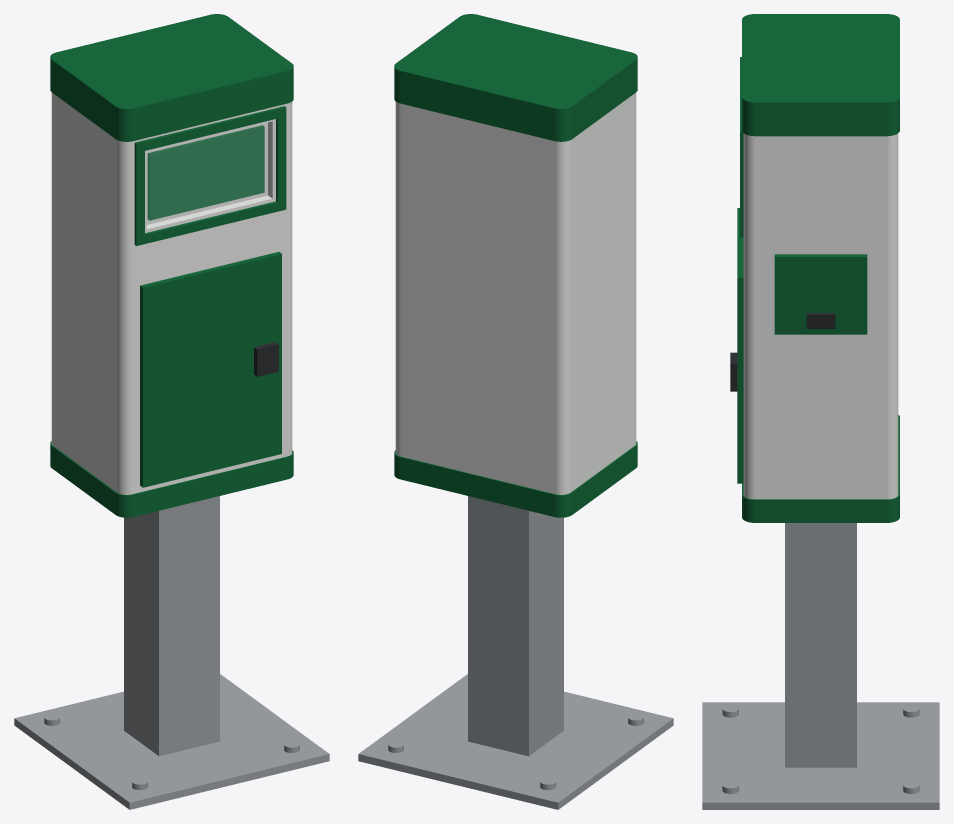
The model's file is ev-charging-station.glb.
3 renders of one model, left to right at view 1: azimuth 30°, elevation 25°; view 2: azimuth 150°, elevation 25°; view 3: azimuth 270°, elevation 25°, orthographic. The views are drawn at different scales.
Parts seen in each view (by area): view 1: ev_head_shell_obj, Geom.001, ev_post_tube_obj, ev_head_cap_obj, ev_base_plate_obj, Geom.006, ev_head_band_obj, ev_screen_surround_obj, Geom; view 2: ev_head_shell_obj, ev_post_tube_obj, ev_head_cap_obj, ev_base_plate_obj, ev_head_band_obj; view 3: ev_head_shell_obj, ev_base_plate_obj, ev_head_cap_obj, ev_post_tube_obj, Geom.003, ev_head_band_obj, Geom.001, ev_anchor_bolts_obj, ev_screen_surround_obj, Geom.002.
Boxes of the visible parts, x1,y1,x2,y2 form: ev_head_shell_obj: (51,92,292,494); Geom.001: (140,252,281,487); ev_post_tube_obj: (124,496,219,756); ev_head_cap_obj: (50,14,293,141); ev_base_plate_obj: (14,674,329,809); Geom.006: (147,125,264,220); ev_head_band_obj: (50,441,293,517); ev_screen_surround_obj: (134,106,286,245); Geom: (254,342,278,376); ev_head_shell_obj: (395,92,636,494); ev_post_tube_obj: (468,496,563,756); ev_head_cap_obj: (394,14,637,141); ev_base_plate_obj: (358,674,673,809); ev_head_band_obj: (394,441,637,517); ev_head_shell_obj: (743,133,898,499); ev_base_plate_obj: (702,702,939,809); ev_head_cap_obj: (742,14,899,136); ev_post_tube_obj: (785,523,856,767); Geom.003: (774,254,867,334); ev_head_band_obj: (742,415,899,522); Geom.001: (737,208,743,483); ev_anchor_bolts_obj: (722,705,919,793); ev_screen_surround_obj: (740,57,743,237); Geom.002: (806,313,835,328).
Size of the model in its own units: 0.46 by 1.5 by 0.46.
